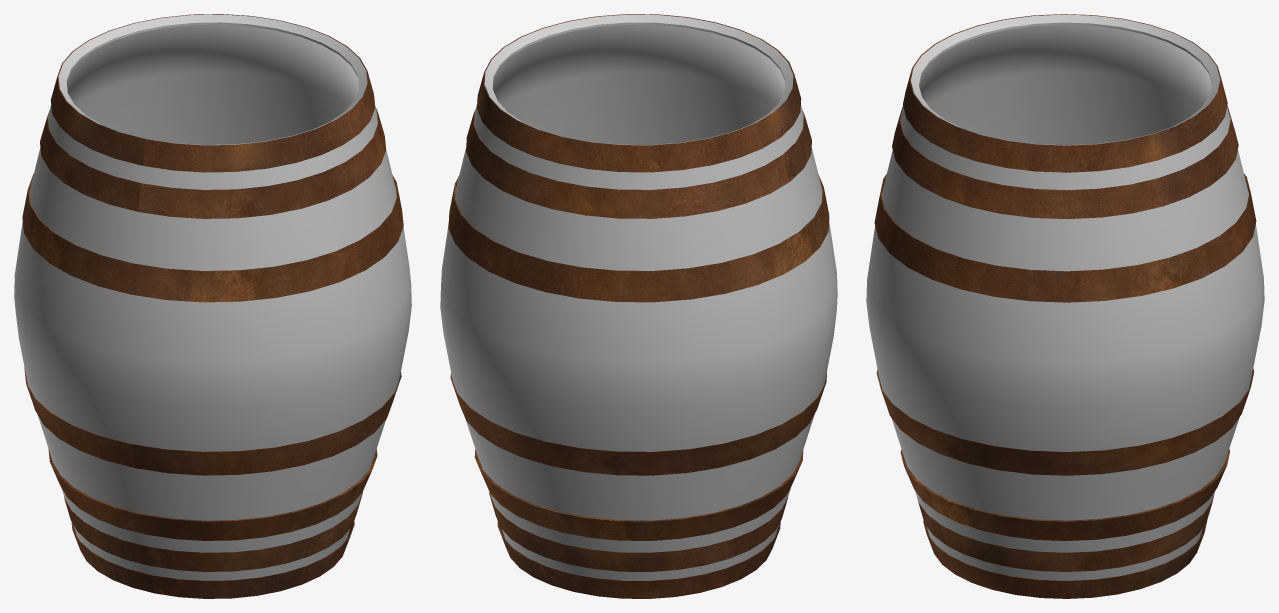
File: Barrel_Open_var-2.fbx
The picture shows the model from 3 angles, left to right: view 1: azimuth 30°, elevation 25°; view 2: azimuth 150°, elevation 25°; view 3: azimuth 270°, elevation 25°; orthographic projection.
Visible parts, largest first — view 1: Wood_base.003, bilge hoop.002; view 2: Wood_base.003, bilge hoop.002; view 3: Wood_base.003, bilge hoop.002.
Boxes of the visible parts, box(x1,y1,x2,y2) form: Wood_base.003: box(14, 14, 411, 580); bilge hoop.002: box(22, 14, 403, 598); Wood_base.003: box(440, 14, 837, 580); bilge hoop.002: box(448, 14, 829, 598); Wood_base.003: box(866, 14, 1264, 580); bilge hoop.002: box(874, 14, 1256, 598).
Bounding box in the file's own units: 301 × 386 × 301.
